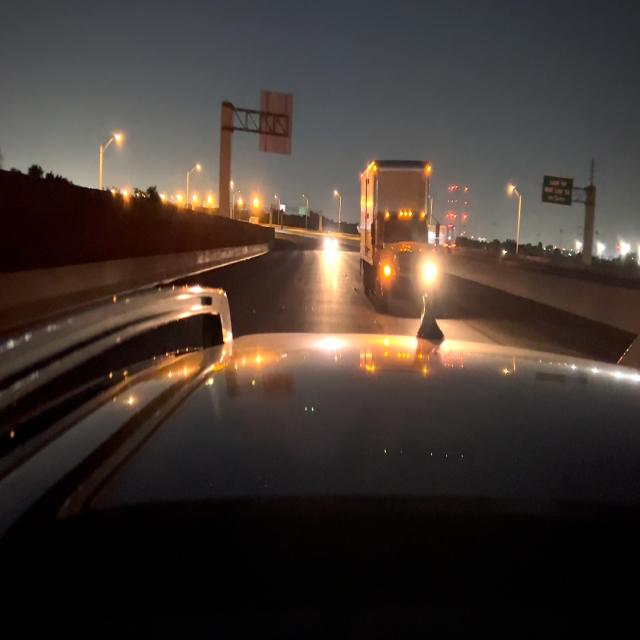back-of-sign: (261, 94, 291, 154)
